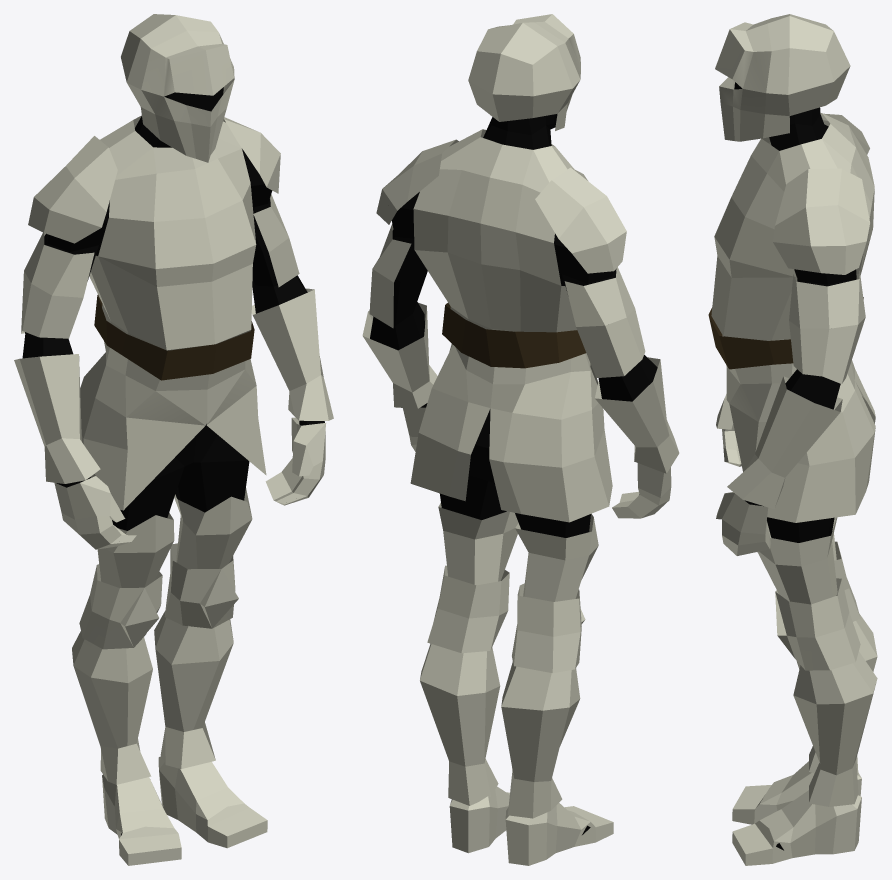
3 views of the same model, side by side, from view 1: azimuth 30°, elevation 25°; view 2: azimuth 150°, elevation 25°; view 3: azimuth 270°, elevation 25° (orthographic).
Parts seen in each view (by area): view 1: body; view 2: body; view 3: body.
Part boxes in pixels (<box>): body: <box>14,14,333,865</box>; body: <box>362,14,679,865</box>; body: <box>708,14,877,865</box>.
Size of the model in its own units: 201 by 545 by 102.
